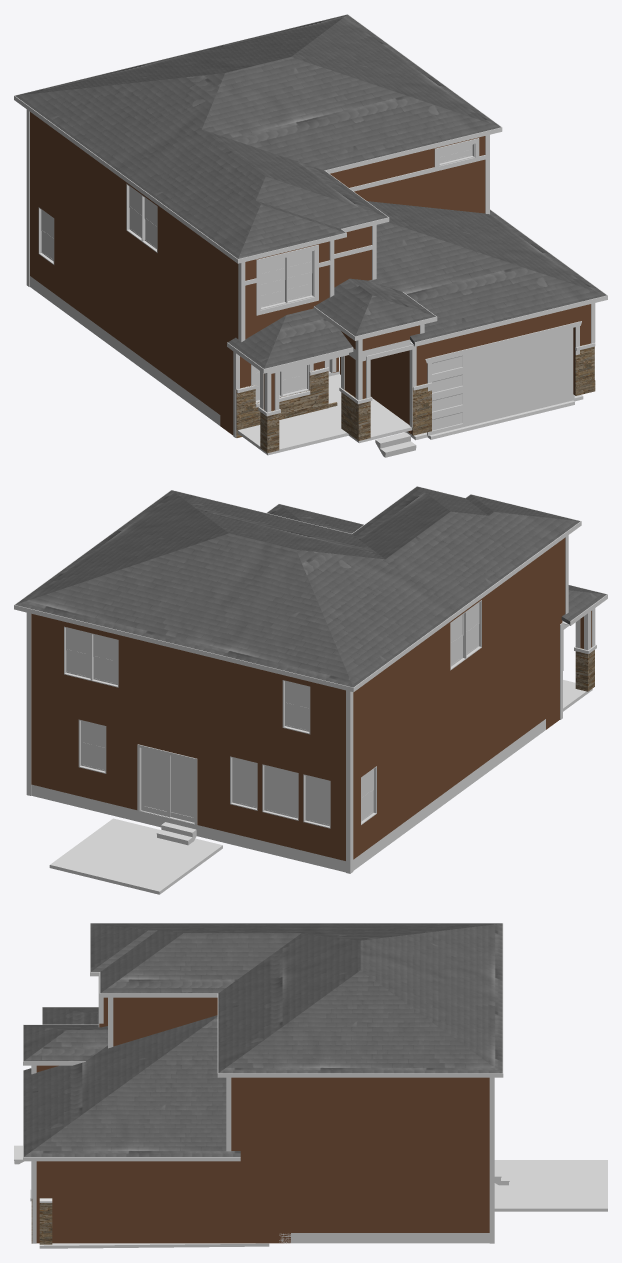
Rendered from 235-2214-dm-prairie.glb.
3 renders of one model, top to bottom at view 1: azimuth 30°, elevation 25°; view 2: azimuth 150°, elevation 25°; view 3: azimuth 270°, elevation 25°, orthographic. The views are drawn at different scales.
Visible parts, largest first — view 1: Basic Roof Wood Rafter 4" - Asphalt Shingle - Insulated_3597, Basic Roof Wood Rafter 4" - Asphalt Shingle - Insulated_9fb7, Basic Wall BSB Exterior - Stud_5.5" - Sheathing_0.5" - _2ea2, Basic Wall BSB Exterior - Stud_5.5" - Sheathing_0.5" - _fd29, Prairie - BSB Exterior - Overhead Garage Door -Clopay -_be91, Basic Wall BSB Exterior - Stud_5.5" - Sheathing_0.5" - _c949, Trim - Corner Boards2 Trim - Corner Boards [4268394], Basic Roof Wood Rafter 4" - Asphalt Shingle - Insulated_a5cc, Basic Roof Wood Rafter 4" - Asphalt Shingle - Insulated_2d60, Floor BSB Concrete Slab - 4" - Slope Option [4192965], Fascia Fascia-Flat 1x6 w/12" Soffit Bd [4457204], Basic Wall BSB Exterior - Stud_3.5" - Sheathing_0.5" - _85ad (+28 smaller); view 2: Basic Roof Wood Rafter 4" - Asphalt Shingle - Insulated_3597, Basic Wall BSB Exterior - Stud_5.5" - Sheathing_0.5" - _0a3f, Basic Wall BSB Exterior - Stud_5.5" - Sheathing_0.5" - _6c98, Basic Wall BSB Exterior - Stud_5.5" - Sheathing_0.5" - _2ea2, Basic Wall BSB Exterior - Stud_5.5" - Sheathing_0.5" - _fd29, Floor BSB Concrete Slab - 4" - Slope Option [4119935], BSB Exterior - SGD XO - 1-Lite 6068 [4116363], Trim - Corner Boards2 Trim - Corner Boards [4268394], Fascia Fascia-Flat 1x6 w/12" Soffit Bd [4457204], Basic Wall BSB Exterior - Lap Siding_6" [4672811], Basic Wall BSB Exterior - Lap Siding_6" [4672812], BSB Fixed 4050 FX w/ Sill [4116586] (+15 smaller); view 3: Basic Roof Wood Rafter 4" - Asphalt Shingle - Insulated_3597, Basic Roof Wood Rafter 4" - Asphalt Shingle - Insulated_9fb7, Basic Wall BSB Exterior - Stud_5.5" - Sheathing_0.5" - _1b7e, Basic Wall BSB Exterior - Stud_5.5" - Sheathing_0.5" - _2c64, Basic Wall BSB Exterior - Stud_3.5" - Sheathing_0.5" - _872d, Basic Wall BSB Exterior - Stud_3.5" - Sheathing_0.5" - _6e2b, Floor BSB Concrete Slab - 4" - Slope Option [4119935], Basic Wall BSB Exterior - Stud_5.5" - Sheathing_0.5" - _bb29, Basic Roof Wood Rafter 4" - Asphalt Shingle - Insulated_2d60, Basic Wall BSB Exterior - Stud_5.5" - Sheathing_0.5" - _b973, Fascia Fascia-Flat 1x6 w/12" Soffit Bd [4457204], Trim - Corner Boards2 Trim - Corner Boards [4268394] (+8 smaller).
Part boxes in pixels (x1,y1,x2,y2): Basic Roof Wood Rafter 4" - Asphalt Shingle - Insulated_3597: (15, 14, 500, 258); Basic Roof Wood Rafter 4" - Asphalt Shingle - Insulated_9fb7: (367, 201, 606, 345); Basic Wall BSB Exterior - Stud_5.5" - Sheathing_0.5" - _2ea2: (30, 191, 220, 414); Basic Wall BSB Exterior - Stud_5.5" - Sheathing_0.5" - _fd29: (30, 112, 220, 329); Prairie - BSB Exterior - Overhead Garage Door -Clopay -_be91: (427, 328, 574, 435); Basic Wall BSB Exterior - Stud_5.5" - Sheathing_0.5" - _c949: (374, 136, 485, 213); Trim - Corner Boards2 Trim - Corner Boards [4268394]: (26, 109, 595, 437); Basic Roof Wood Rafter 4" - Asphalt Shingle - Insulated_a5cc: (228, 308, 352, 368); Basic Roof Wood Rafter 4" - Asphalt Shingle - Insulated_2d60: (314, 278, 435, 336); Floor BSB Concrete Slab - 4" - Slope Option [4192965]: (237, 374, 412, 455); Fascia Fascia-Flat 1x6 w/12" Soffit Bd [4457204]: (14, 14, 502, 263); Basic Wall BSB Exterior - Stud_3.5" - Sheathing_0.5" - _85ad: (416, 304, 590, 394); Basic Roof Wood Rafter 4" - Asphalt Shingle - Insulated_3597: (15, 486, 580, 687); Basic Wall BSB Exterior - Stud_5.5" - Sheathing_0.5" - _0a3f: (31, 613, 345, 773); Basic Wall BSB Exterior - Stud_5.5" - Sheathing_0.5" - _6c98: (31, 697, 345, 860); Basic Wall BSB Exterior - Stud_5.5" - Sheathing_0.5" - _2ea2: (353, 632, 545, 859); Basic Wall BSB Exterior - Stud_5.5" - Sheathing_0.5" - _fd29: (353, 552, 545, 772); Floor BSB Concrete Slab - 4" - Slope Option [4119935]: (49, 818, 222, 894); BSB Exterior - SGD XO - 1-Lite 6068 [4116363]: (137, 744, 197, 825); Trim - Corner Boards2 Trim - Corner Boards [4268394]: (26, 535, 595, 873); Fascia Fascia-Flat 1x6 w/12" Soffit Bd [4457204]: (14, 486, 581, 692); Basic Wall BSB Exterior - Lap Siding_6" [4672811]: (31, 784, 345, 872); Basic Wall BSB Exterior - Lap Siding_6" [4672812]: (353, 719, 545, 870); BSB Fixed 4050 FX w/ Sill [4116586]: (262, 764, 298, 820); Basic Roof Wood Rafter 4" - Asphalt Shingle - Insulated_3597: (90, 923, 502, 1073); Basic Roof Wood Rafter 4" - Asphalt Shingle - Insulated_9fb7: (23, 1015, 240, 1156); Basic Wall BSB Exterior - Stud_5.5" - Sheathing_0.5" - _1b7e: (244, 1077, 489, 1153); Basic Wall BSB Exterior - Stud_5.5" - Sheathing_0.5" - _2c64: (291, 1154, 488, 1232); Basic Wall BSB Exterior - Stud_3.5" - Sheathing_0.5" - _872d: (119, 1154, 271, 1243); Basic Wall BSB Exterior - Stud_3.5" - Sheathing_0.5" - _6e2b: (52, 1161, 119, 1243); Floor BSB Concrete Slab - 4" - Slope Option [4119935]: (494, 1160, 607, 1211); Basic Wall BSB Exterior - Stud_5.5" - Sheathing_0.5" - _bb29: (113, 997, 217, 1046); Basic Roof Wood Rafter 4" - Asphalt Shingle - Insulated_2d60: (23, 1025, 107, 1061); Basic Wall BSB Exterior - Stud_5.5" - Sheathing_0.5" - _b973: (236, 1154, 290, 1243); Fascia Fascia-Flat 1x6 w/12" Soffit Bd [4457204]: (90, 923, 503, 1077); Trim - Corner Boards2 Trim - Corner Boards [4268394]: (31, 976, 494, 1243).
Size of the model in its own units: 11.32 by 8.76 by 18.9.
Materials: 3 (2 with a texture image).
